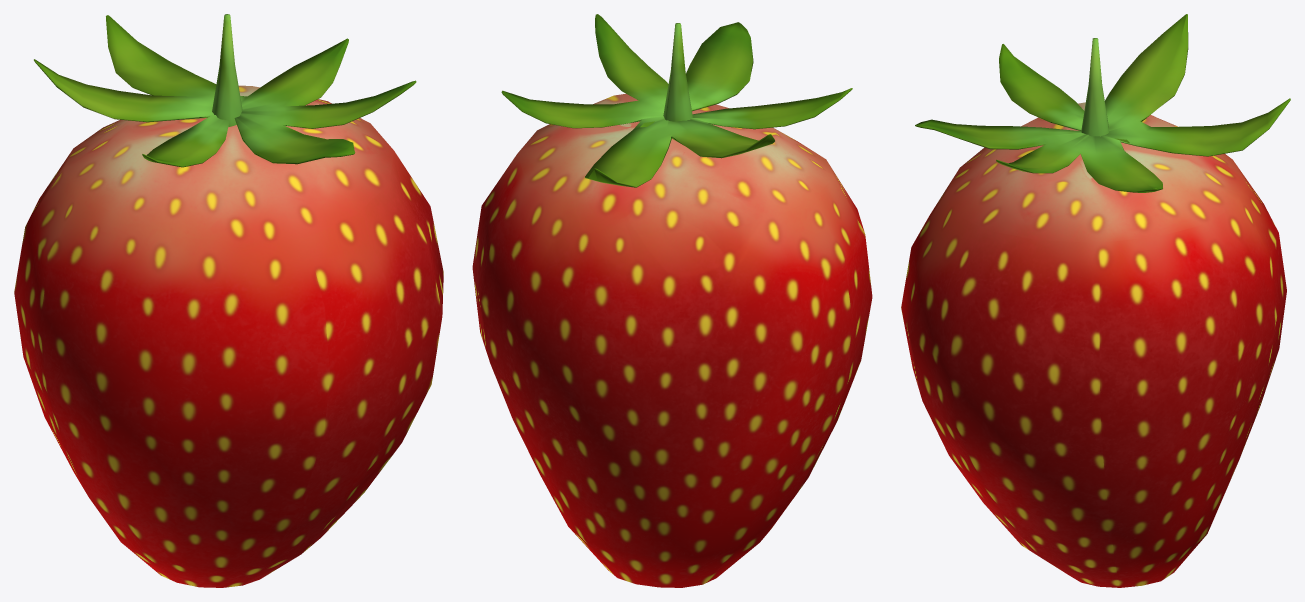
The model's file is Strawberry_LOD1.fbx.
The picture shows the model from 3 angles, left to right: view 1: azimuth 30°, elevation 25°; view 2: azimuth 150°, elevation 25°; view 3: azimuth 270°, elevation 25°; orthographic projection. The views are drawn at different scales.
Parts seen in each view (by area): view 1: Strawberry_LOD1; view 2: Strawberry_LOD1; view 3: Strawberry_LOD1.
Boxes of the visible parts, left/top/right/bottom form: Strawberry_LOD1: left=14, top=14, right=443, bottom=587; Strawberry_LOD1: left=472, top=14, right=872, bottom=587; Strawberry_LOD1: left=901, top=14, right=1290, bottom=587.
Bounding box in the file's own units: 0.0301 × 0.029 × 0.0448.
